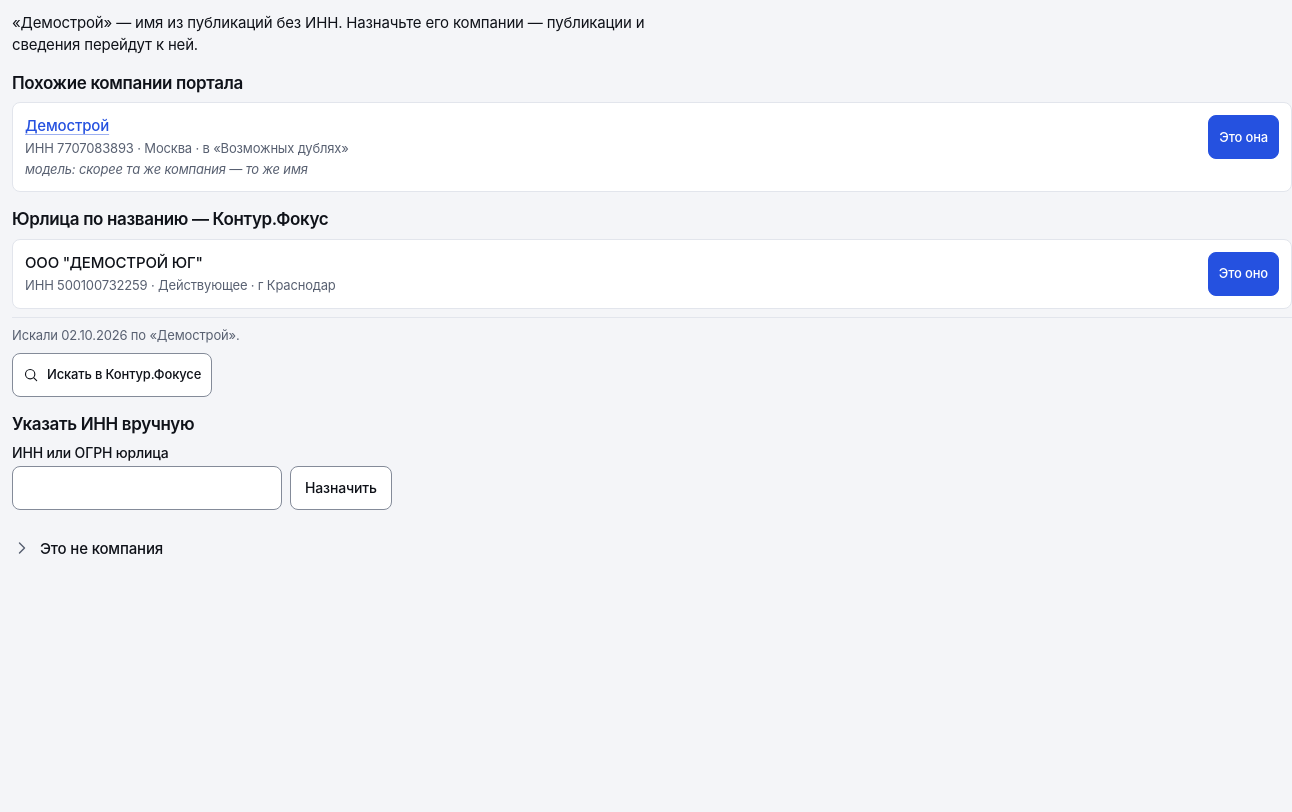
Scenario: назначение имени без ИНН › «Это оно»: реквизит юрлица из Фокуса назначается карточке
Expected: the text "ИНН 500100732259 · Действующее · г Краснодар" is shown, [25,276,336,294]
Expected: the text "Искали 02.10.2026 по «Демострой»." is shown, [12,326,240,345]
Click the button "Это оно" at (1243, 274), box [1208,252,1279,296]
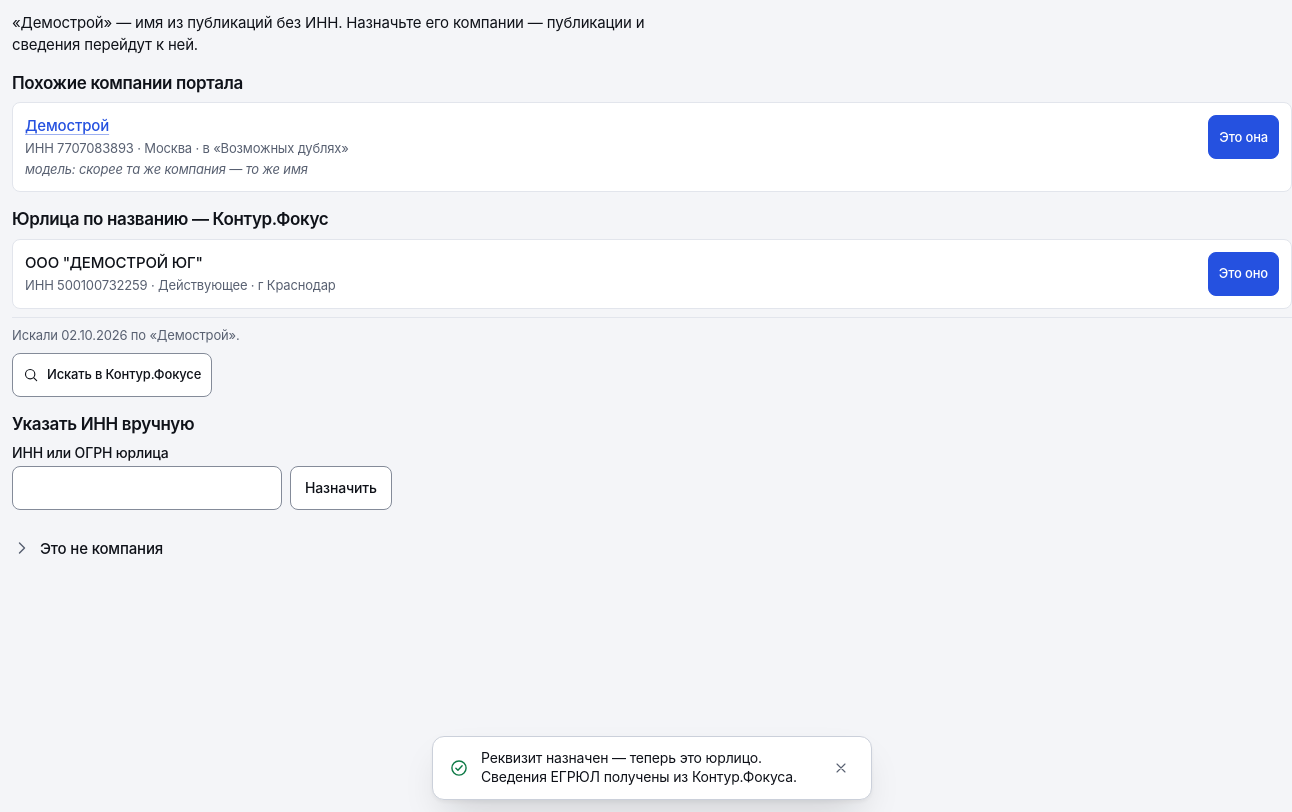
Now the text "Реквизит назначен — теперь это юрлицо. Сведения ЕГРЮЛ получены" is shown, box [481,749,797,785]
